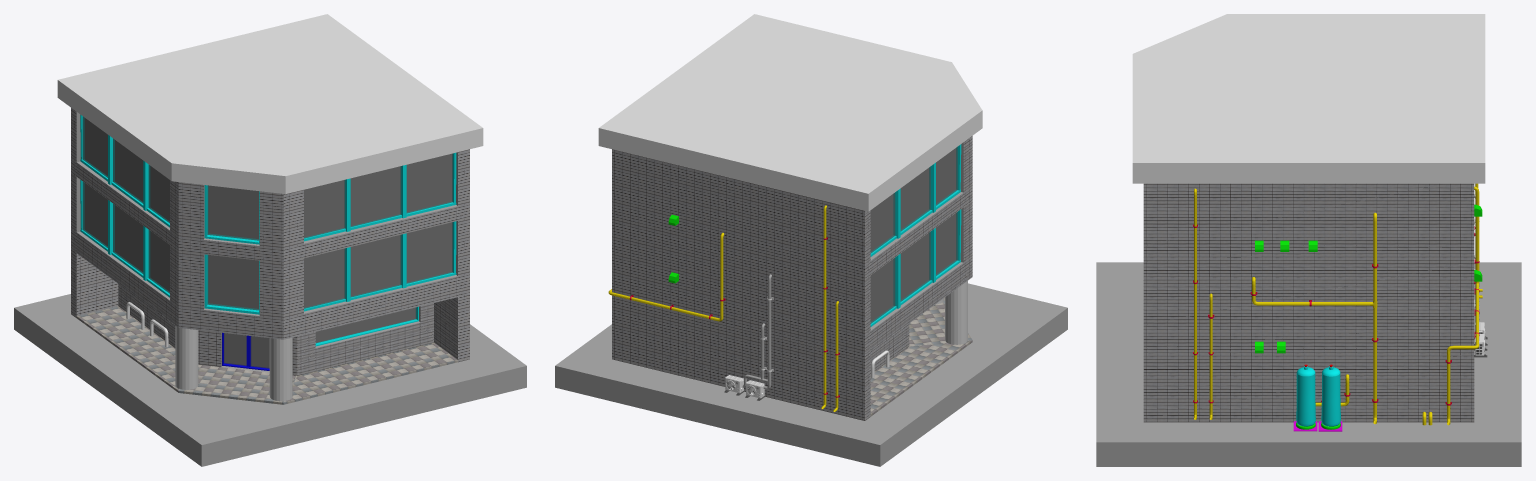
The model's file is building5_high.fbx.
The picture shows the model from 3 angles, left to right: view 1: azimuth 30°, elevation 25°; view 2: azimuth 150°, elevation 25°; view 3: azimuth 270°, elevation 25°; orthographic projection. The views are drawn at different scales.
Parts seen in each view (by area): view 1: polySurface511; view 2: polySurface511; view 3: polySurface511.
Part boxes in pixels (x1=…): polySurface511: x1=14, y1=14, x2=526, y2=466; polySurface511: x1=555, y1=14, x2=1067, y2=466; polySurface511: x1=1096, y1=14, x2=1521, y2=466.
Bounding box in the file's own units: 14.49 × 10.84 × 14.49.
